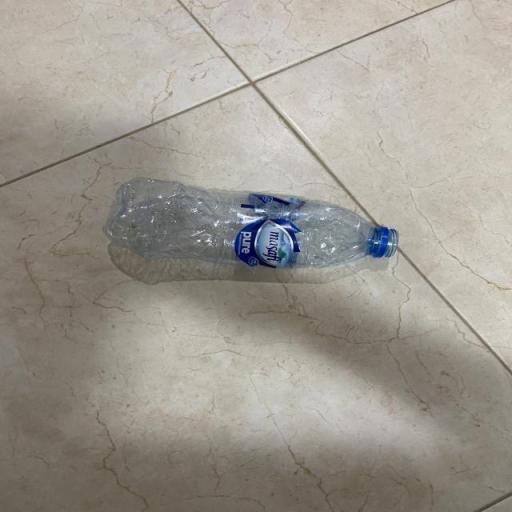plastic: (88, 169, 416, 275)
